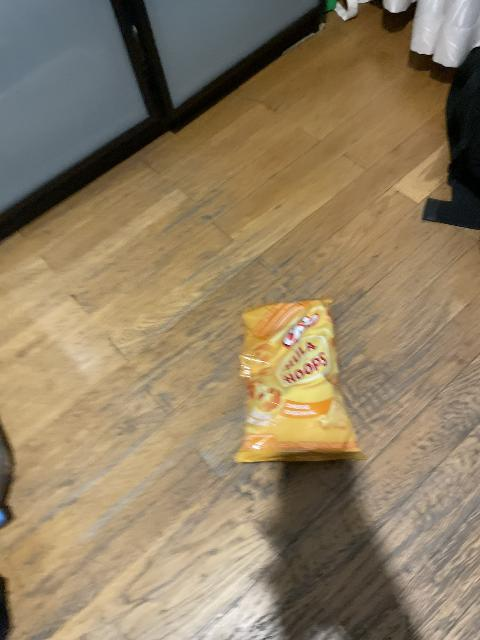Chio Hula Hoops Cheese 70g: (236, 300, 367, 461)
